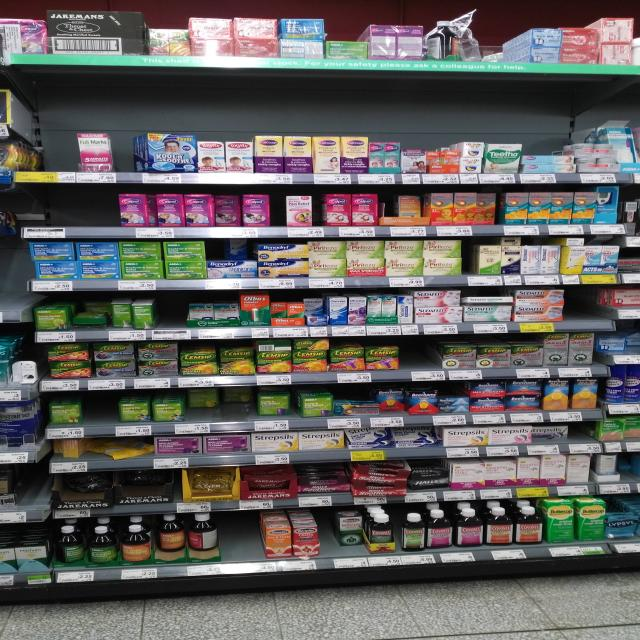void: (482, 19, 527, 73), (227, 512, 262, 574), (38, 120, 73, 182), (44, 185, 75, 240), (76, 187, 110, 237), (404, 338, 440, 380), (16, 184, 42, 240), (157, 294, 186, 342), (84, 395, 116, 437), (118, 127, 141, 184), (574, 289, 603, 329)
